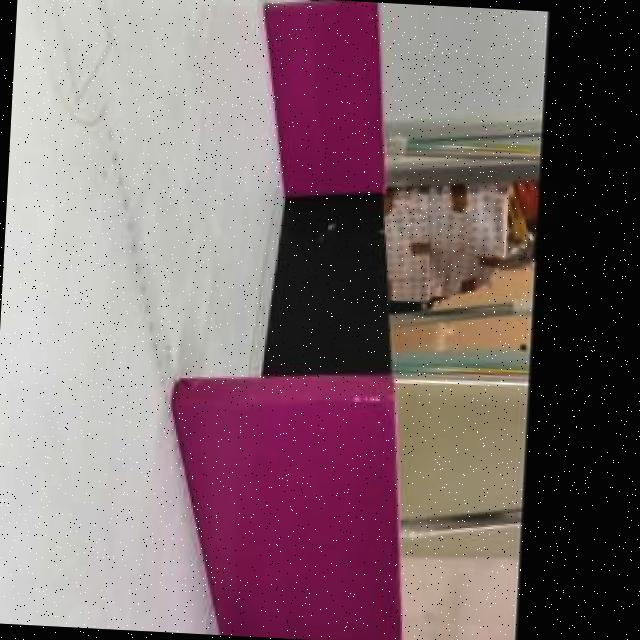xparking: (183, 381, 390, 640), (268, 2, 374, 196)
